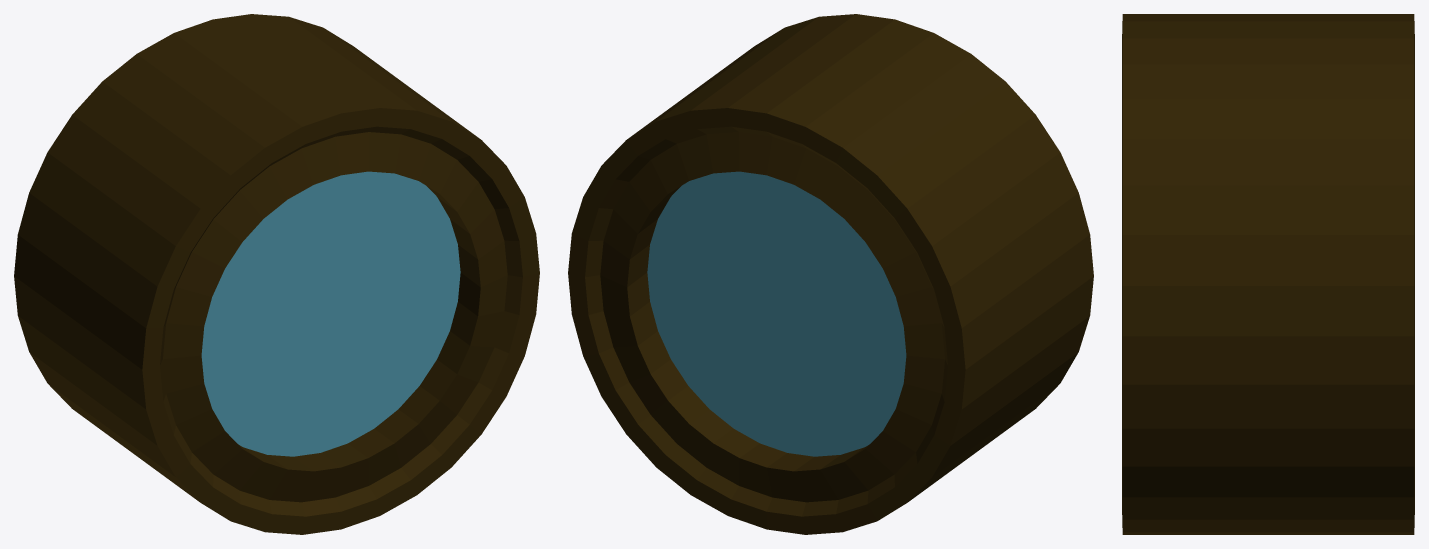
Rendered from Jendela.fbx.
3 views of the same model, side by side, from view 1: azimuth 30°, elevation 25°; view 2: azimuth 150°, elevation 25°; view 3: azimuth 270°, elevation 25° (orthographic). The views are drawn at different scales.
Parts seen in each view (by area): view 1: jendela; view 2: jendela; view 3: jendela.
Boxes of the visible parts, <box> form: jendela: <box>14,14,539,534</box>; jendela: <box>568,14,1093,534</box>; jendela: <box>1122,14,1414,534</box>.
Bounding box in the file's own units: 388 × 388 × 218.
